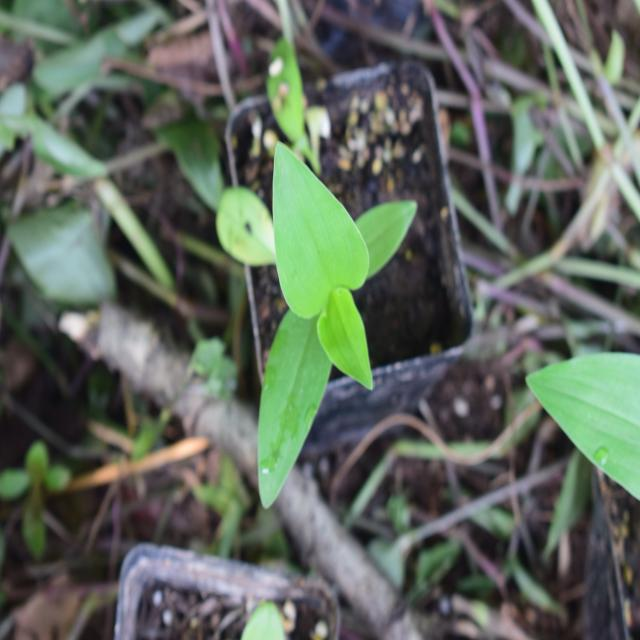Common Dayflower: (236, 140, 419, 497)
